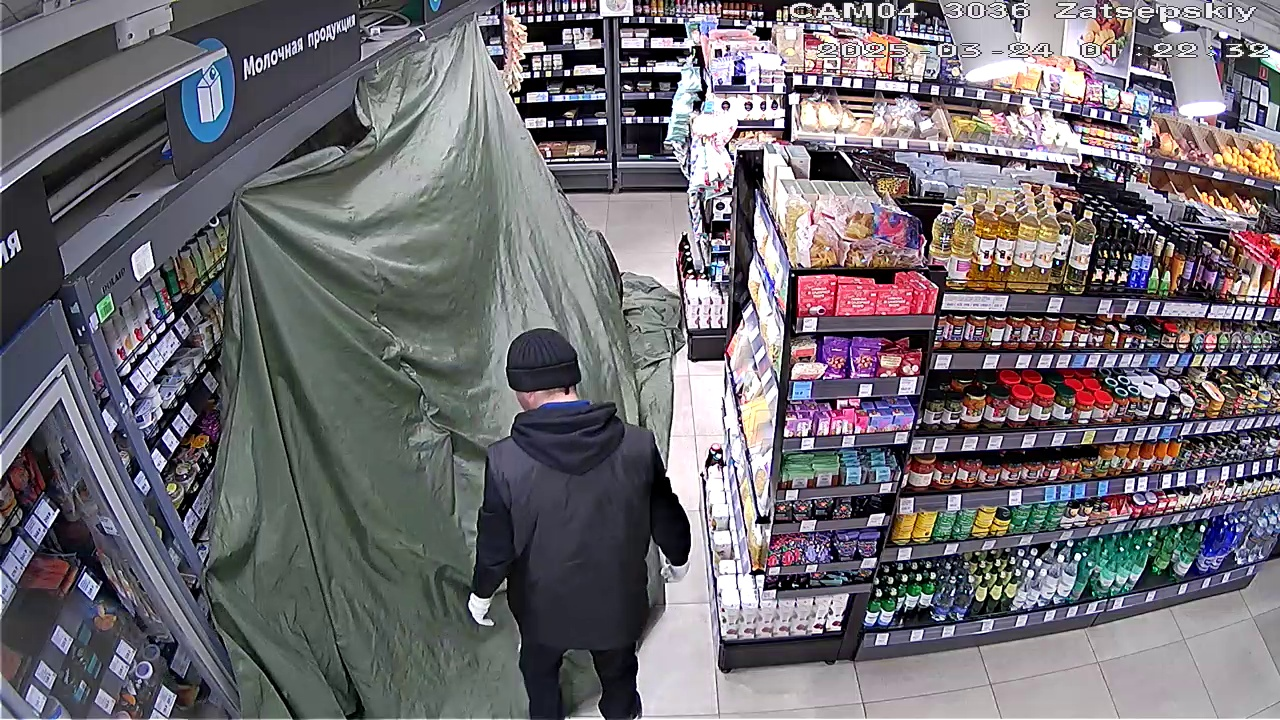Human: (459, 329, 692, 717)
dome: (172, 33, 681, 714)
